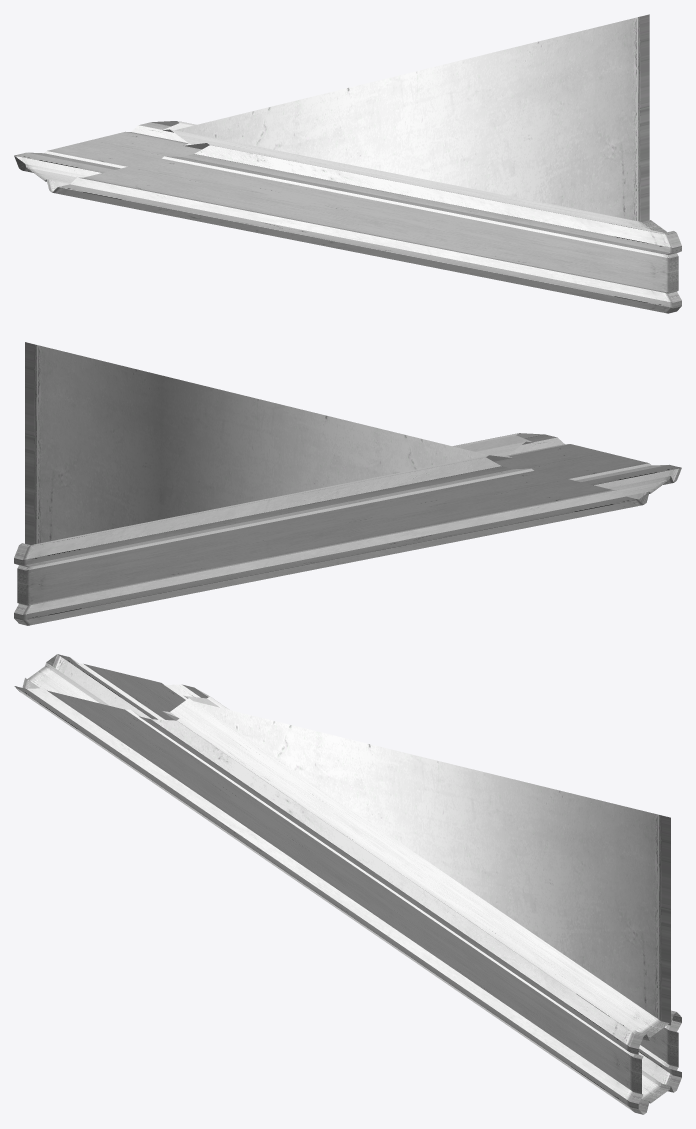
Rendered from CeilingBraceAngleCap.FBX.
3 renders of one model, top to bottom at view 1: azimuth 30°, elevation 25°; view 2: azimuth 150°, elevation 25°; view 3: azimuth 330°, elevation 25°, orthographic.
Visible parts, largest first — view 1: CeilingBraceAngleCap; view 2: CeilingBraceAngleCap; view 3: CeilingBraceAngleCap.
Boxes of the visible parts, <box> form: CeilingBraceAngleCap: <box>14,14,681,313</box>; CeilingBraceAngleCap: <box>14,342,681,625</box>; CeilingBraceAngleCap: <box>14,654,681,1114</box>.
Bounding box in the file's own units: 10.85 × 4.65 × 1.3.
